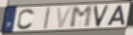A: (106, 5, 126, 27)
C: (16, 8, 36, 30)
I: (43, 7, 52, 31)
M: (70, 5, 94, 29)
V: (56, 6, 74, 29), (93, 4, 110, 28)
